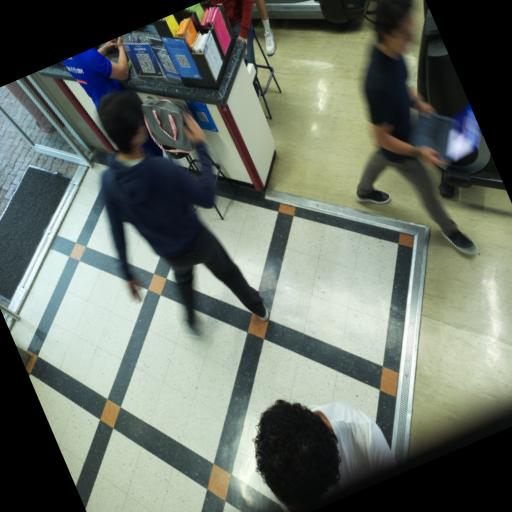person: (98, 91, 268, 329), (357, 0, 476, 254), (255, 400, 396, 511), (64, 36, 129, 108), (211, 0, 255, 63), (254, 0, 275, 55)
